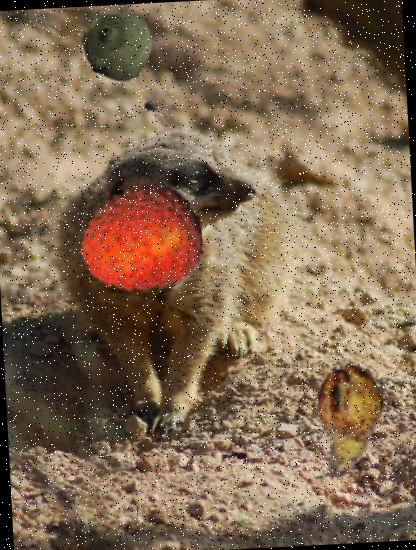Kohlrabi: (80, 4, 159, 84)
Lychee: (75, 172, 206, 304)
Pear: (286, 363, 403, 480)
